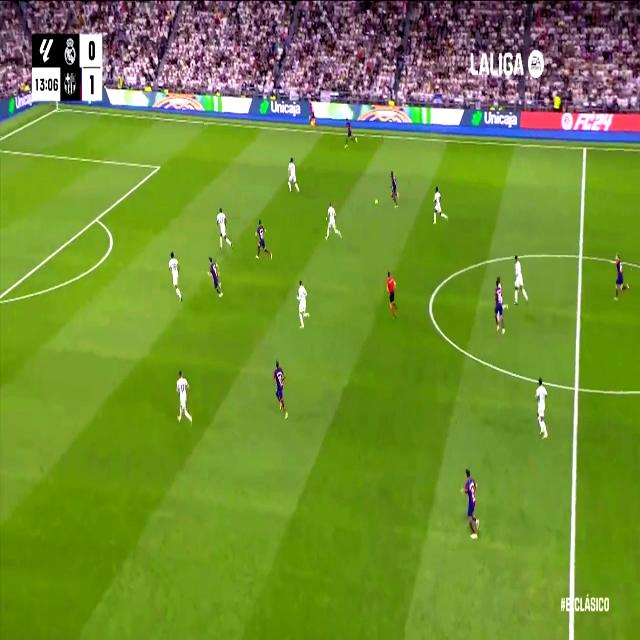bigarea_top_inner: (154, 158, 162, 175)
corner: (53, 104, 61, 113)
halfcircle_bottom: (570, 372, 584, 404)
halfcircle_top: (574, 242, 588, 269)
midline_top_intersection: (580, 140, 590, 157)
top_arc_area_intersection: (92, 209, 100, 227)
